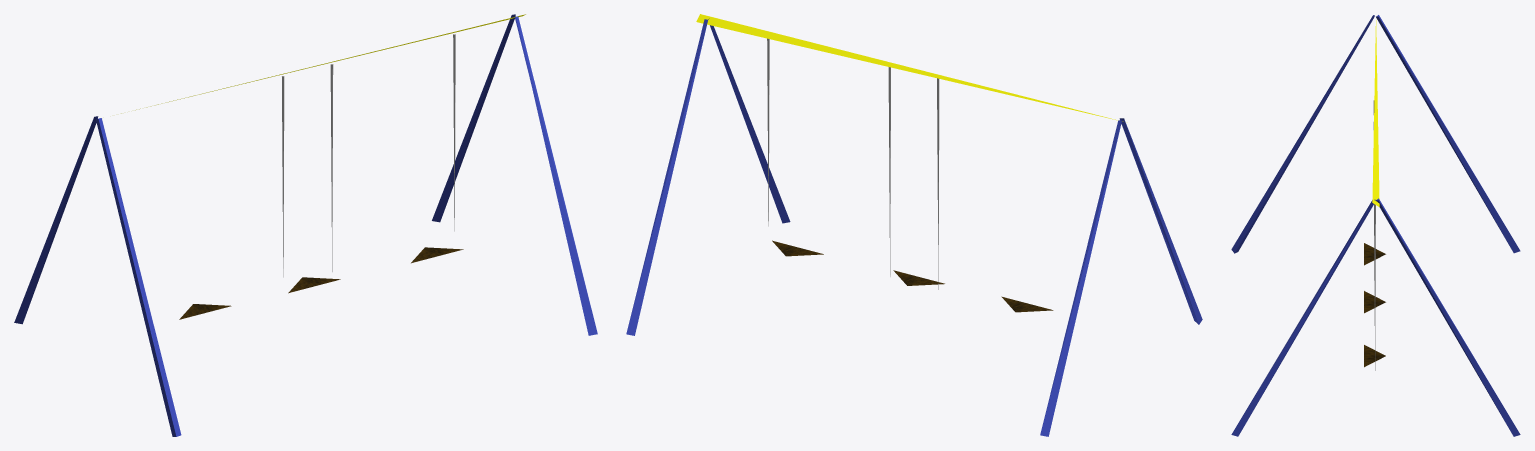
The model's file is BalancoLOD2.fbx.
3 views of the same model, side by side, from view 1: azimuth 30°, elevation 25°; view 2: azimuth 150°, elevation 25°; view 3: azimuth 270°, elevation 25° (orthographic). The views are drawn at different scales.
Visible parts, largest first — view 1: Balanco.LOD2; view 2: Balanco.LOD2; view 3: Balanco.LOD2.
Part boxes in pixels (left/top/right/bottom): Balanco.LOD2: left=14, top=14, right=597, bottom=436; Balanco.LOD2: left=626, top=14, right=1202, bottom=436; Balanco.LOD2: left=1231, top=15, right=1520, bottom=436.
Size of the model in its own units: 370 by 215 by 237.
